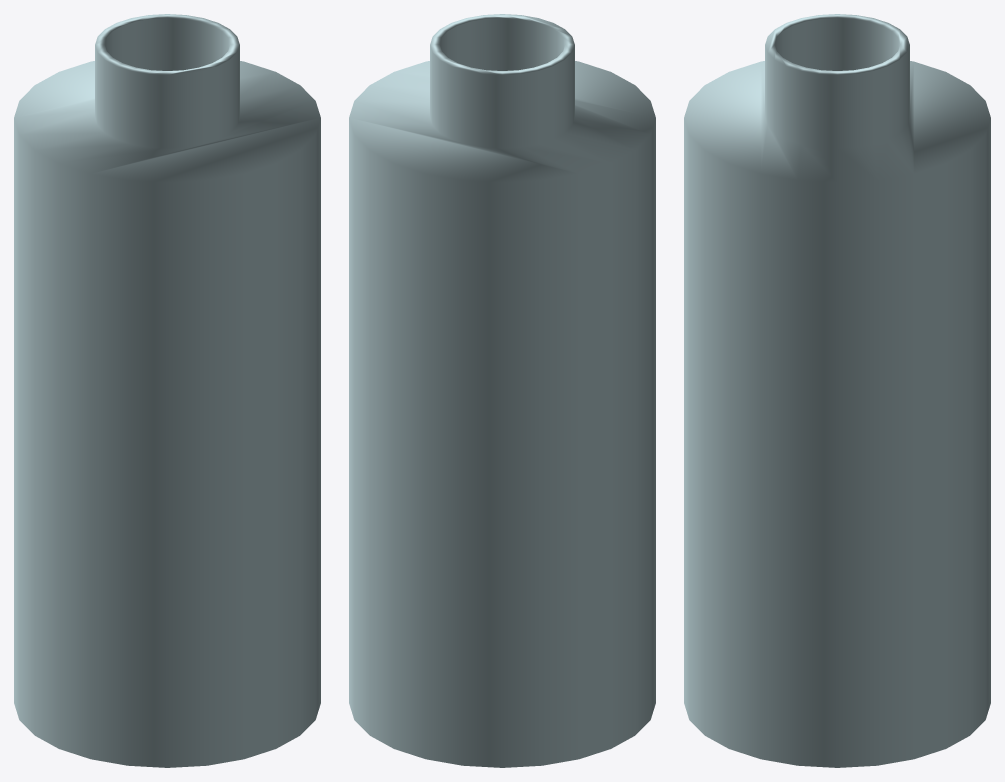
3 renders of one model, left to right at view 1: azimuth 30°, elevation 25°; view 2: azimuth 150°, elevation 25°; view 3: azimuth 270°, elevation 25°, orthographic.
Bounding box in the file's own units: 0.6021 × 1.43 × 0.6021.
